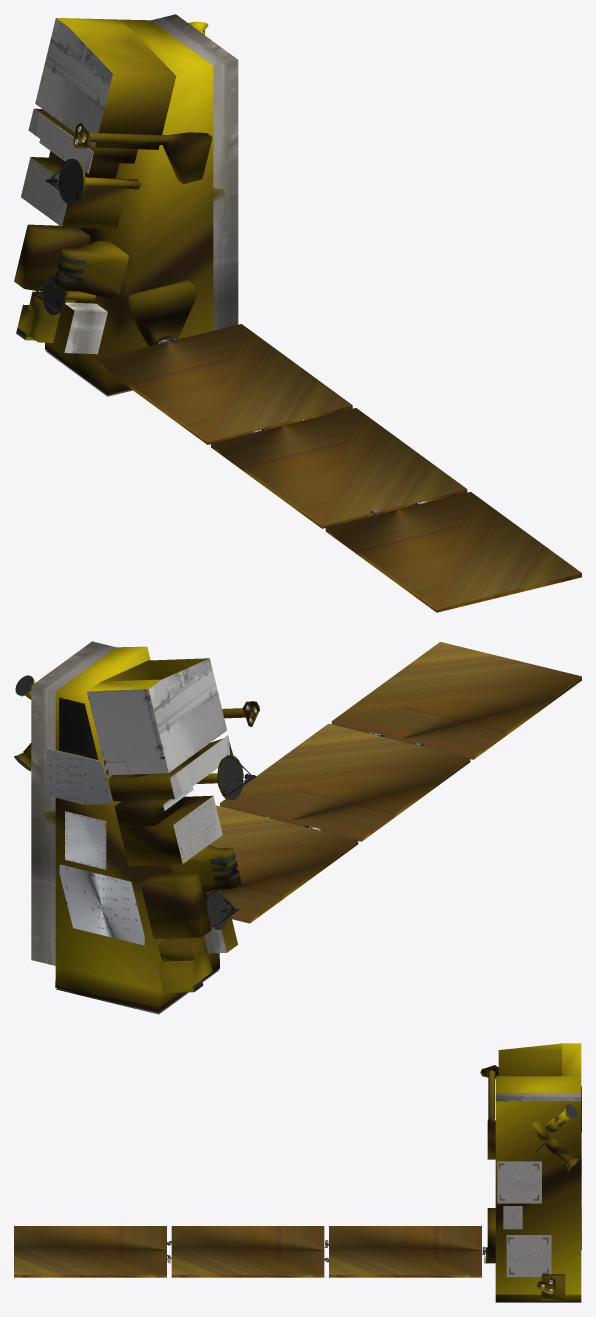
File: suomi.glb
3 renders of one model, top to bottom at view 1: azimuth 30°, elevation 25°; view 2: azimuth 150°, elevation 25°; view 3: azimuth 270°, elevation 25°, orthographic. The views are drawn at different scales.
Visible parts, largest first — view 1: tex_01, foil_gold, tex_02, AO_01; view 2: tex_01, foil_gold, tex_02, AO_01, foil_silver; view 3: tex_01, foil_gold, tex_02.
Boxes of the visible parts, x1,y1,x2,y2 form: tex_01: [75, 126, 581, 612]; foil_gold: [14, 18, 213, 394]; tex_02: [21, 14, 238, 354]; AO_01: [31, 158, 83, 315]; tex_01: [46, 642, 581, 945]; foil_gold: [15, 646, 259, 1012]; tex_02: [31, 641, 230, 965]; AO_01: [14, 675, 256, 929]; foil_silver: [56, 853, 239, 1014]; tex_01: [14, 1132, 581, 1292]; foil_gold: [480, 1043, 581, 1301]; tex_02: [495, 1086, 581, 1132].
Bounding box in the file's own units: 2.56 × 4.18 × 8.96.
Materials: 5 (5 with a texture image).
